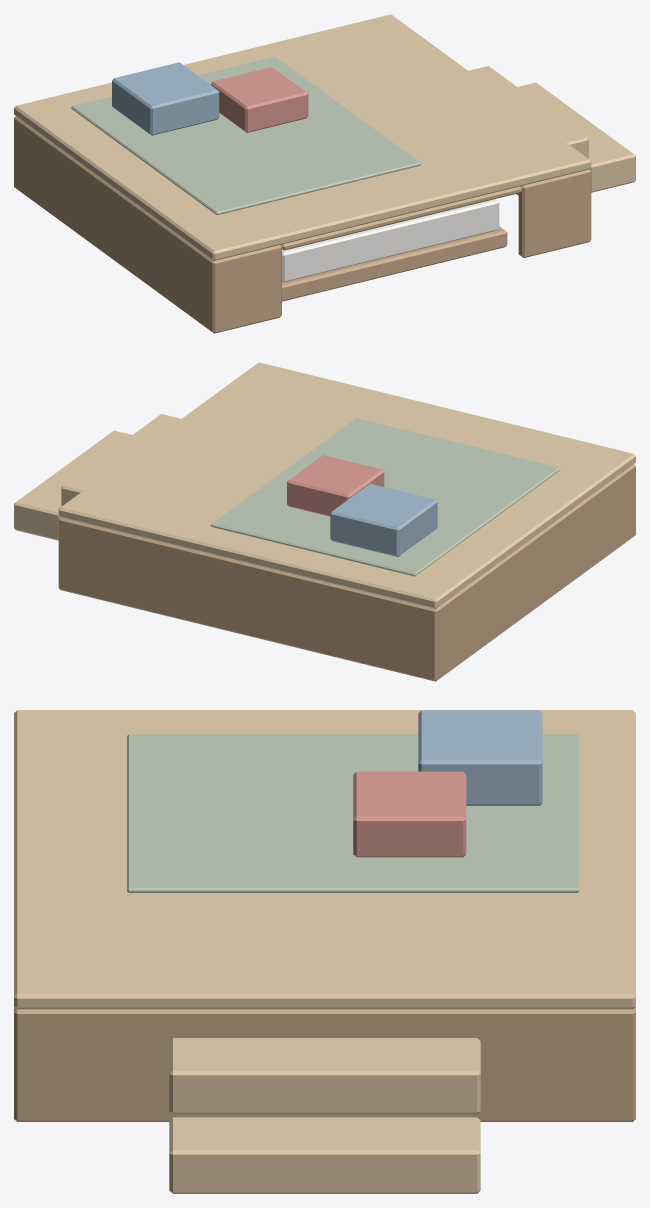
Rendered from PlatformBedPodium.glb.
The picture shows the model from 3 angles, top to bottom: view 1: azimuth 30°, elevation 25°; view 2: azimuth 150°, elevation 25°; view 3: azimuth 270°, elevation 25°; orthographic projection. The views are drawn at different scales.
Visible parts, largest first — view 1: PlatformBedPodium_Body, PlatformBedPodium_Bed; view 2: PlatformBedPodium_Body; view 3: PlatformBedPodium_Body.
Boxes of the visible parts, box(x1,y1,x2,y2) form: PlatformBedPodium_Body: box(14, 14, 635, 333); PlatformBedPodium_Bed: box(282, 199, 507, 301); PlatformBedPodium_Body: box(14, 362, 635, 681); PlatformBedPodium_Body: box(14, 710, 635, 1193).
Bounding box in the file's own units: 3 × 0.7 × 2.2.
